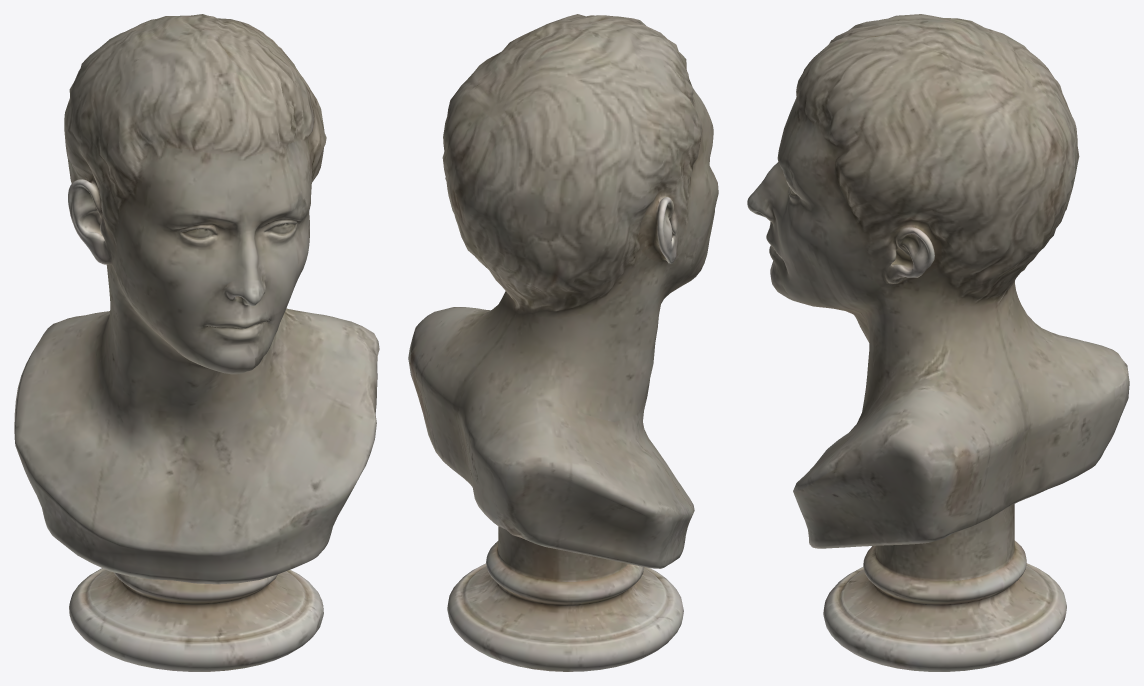
File: marble_bust_01.glb
The picture shows the model from 3 angles, left to right: view 1: azimuth 30°, elevation 25°; view 2: azimuth 150°, elevation 25°; view 3: azimuth 270°, elevation 25°; orthographic projection. The views are drawn at different scales.
Visible parts, largest first — view 1: marble_bust_01; view 2: marble_bust_01; view 3: marble_bust_01.
Part boxes in pixels (left/top/right/bottom): marble_bust_01: left=14, top=14, right=379, bottom=671; marble_bust_01: left=408, top=14, right=718, bottom=671; marble_bust_01: left=747, top=14, right=1129, bottom=671.
Bounding box in the file's own units: 0.2717 × 0.5149 × 0.2997.
Materials: 1 (1 with a texture image).
